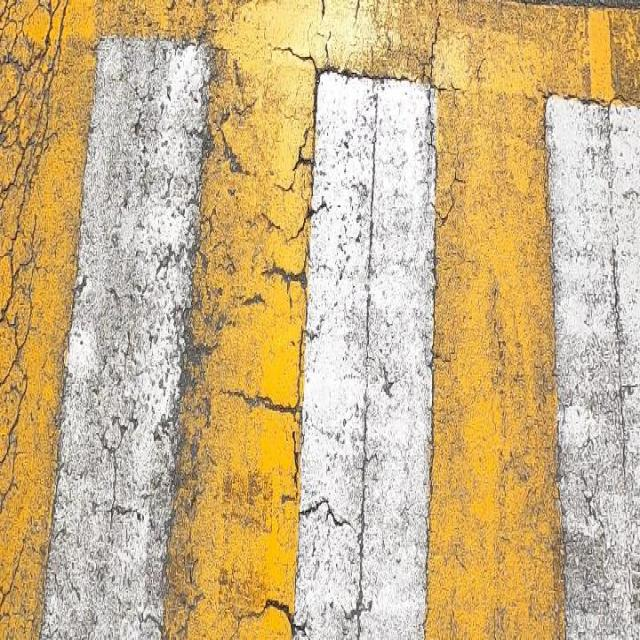cracks: (182, 1, 352, 640), (0, 0, 84, 640)
